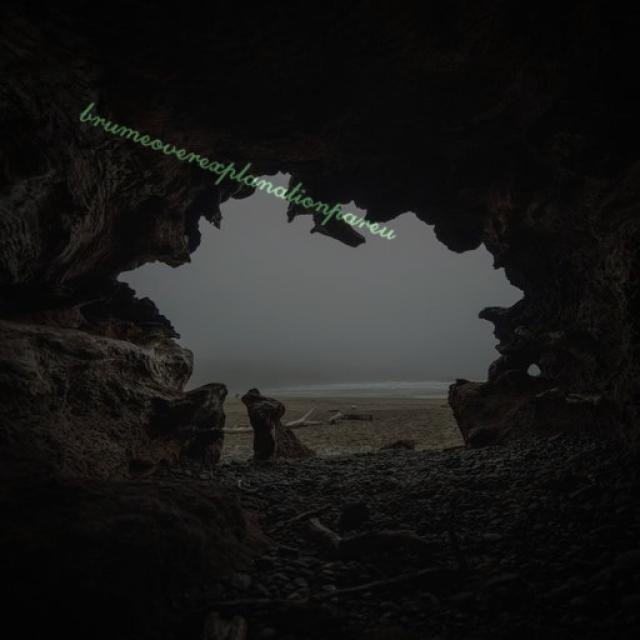watermark: (71, 96, 414, 245)
